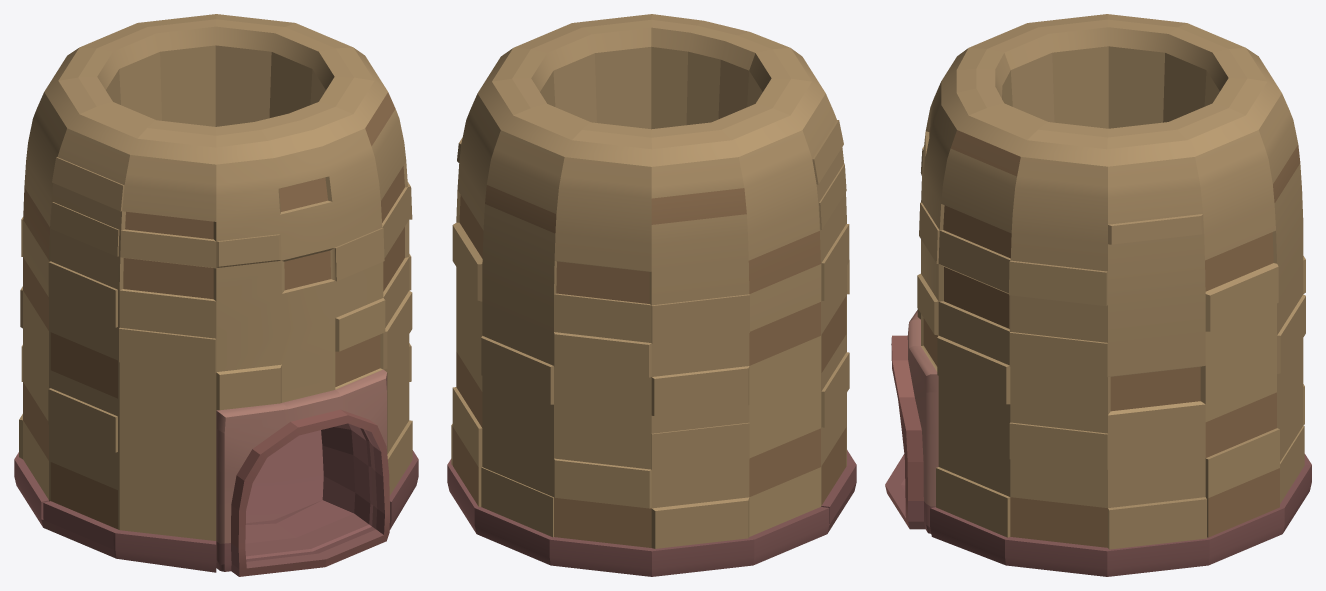
The model's file is SM_Kiln.fbx.
The picture shows the model from 3 angles, left to right: view 1: azimuth 30°, elevation 25°; view 2: azimuth 150°, elevation 25°; view 3: azimuth 270°, elevation 25°; orthographic projection.
Visible parts, largest first — view 1: Kiln; view 2: Kiln; view 3: Kiln.
Part boxes in pixels (bbox=[...]): Kiln: bbox=[14, 14, 418, 576]; Kiln: bbox=[447, 14, 856, 576]; Kiln: bbox=[885, 14, 1311, 576].
Bounding box in the file's own units: 14.28 × 16.02 × 14.9.
1 material, 1 textured.
